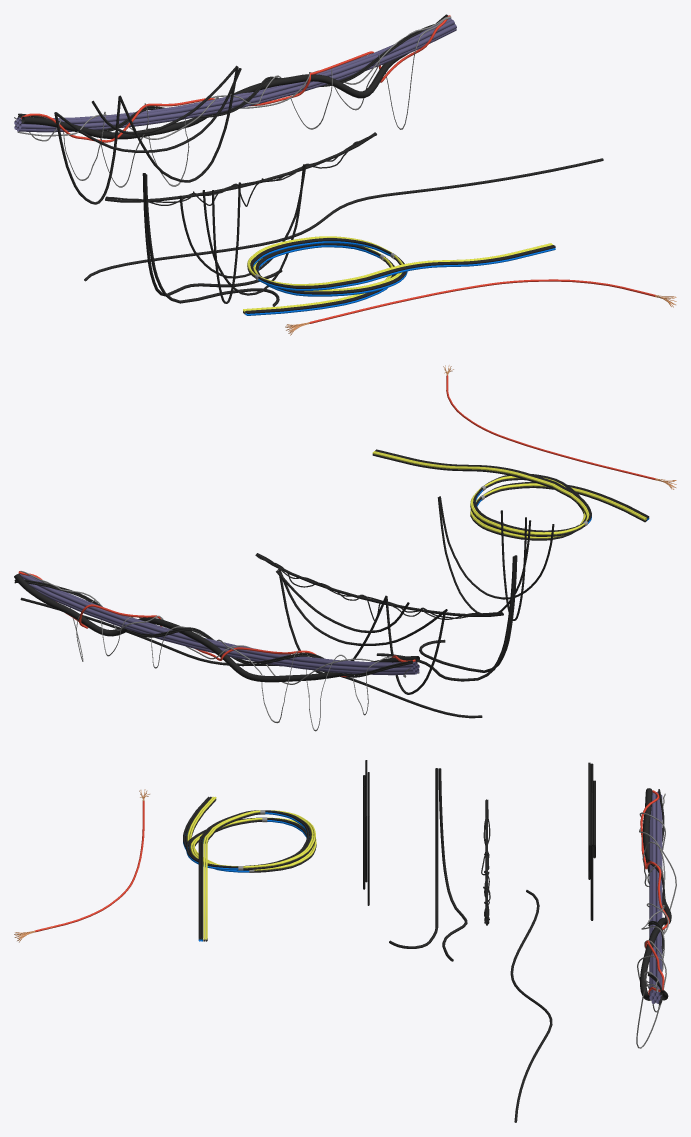
File: wires.fbx
3 views of the same model, one above another, from view 1: azimuth 30°, elevation 25°; view 2: azimuth 150°, elevation 25°; view 3: azimuth 270°, elevation 25° (orthographic). The views are drawn at different scales.
Parts seen in each view (by area): view 1: Big Cables, Color wires, Black cables 1, Black cables 5, Black cables 2, Black cables 4, Black cables 3, Red wire; view 2: Big Cables, Color wires, Black cables 1, Black cables 5, Black cables 3, Black cables 4, Black cables 2, Red wire; view 3: Big Cables, Color wires, Black cables 4, Black cables 1, Black cables 5, Black cables 2, Red wire, Black cables 3.
Part boxes in pixels (x1=…): Big Cables: x1=14, y1=14, x2=456, y2=187; Color wires: x1=243, y1=236, x2=555, y2=315; Black cables 1: x1=54, y1=65, x2=241, y2=204; Black cables 5: x1=179, y1=164, x2=306, y2=303; Black cables 2: x1=84, y1=158, x2=603, y2=281; Black cables 4: x1=142, y1=173, x2=282, y2=306; Black cables 3: x1=105, y1=132, x2=376, y2=206; Red wire: x1=285, y1=279, x2=676, y2=335; Big Cables: x1=14, y1=571, x2=419, y2=731; Color wires: x1=372, y1=449, x2=649, y2=540; Black cables 1: x1=276, y1=568, x2=447, y2=694; Black cables 5: x1=437, y1=496, x2=554, y2=620; Black cables 3: x1=255, y1=553, x2=503, y2=620; Black cables 4: x1=376, y1=555, x2=517, y2=681; Black cables 2: x1=20, y1=597, x2=482, y2=718; Red wire: x1=443, y1=365, x2=676, y2=489; Big Cables: x1=636, y1=788, x2=676, y2=1048; Color wires: x1=183, y1=796, x2=316, y2=941; Black cables 4: x1=389, y1=768, x2=467, y2=961; Black cables 1: x1=588, y1=762, x2=595, y2=920; Black cables 5: x1=363, y1=760, x2=369, y2=905; Black cables 2: x1=510, y1=890, x2=552, y2=1122; Red wire: x1=14, y1=789, x2=149, y2=942; Black cables 3: x1=481, y1=799, x2=490, y2=925.
Size of the model in its own units: 627 by 168 by 745.
